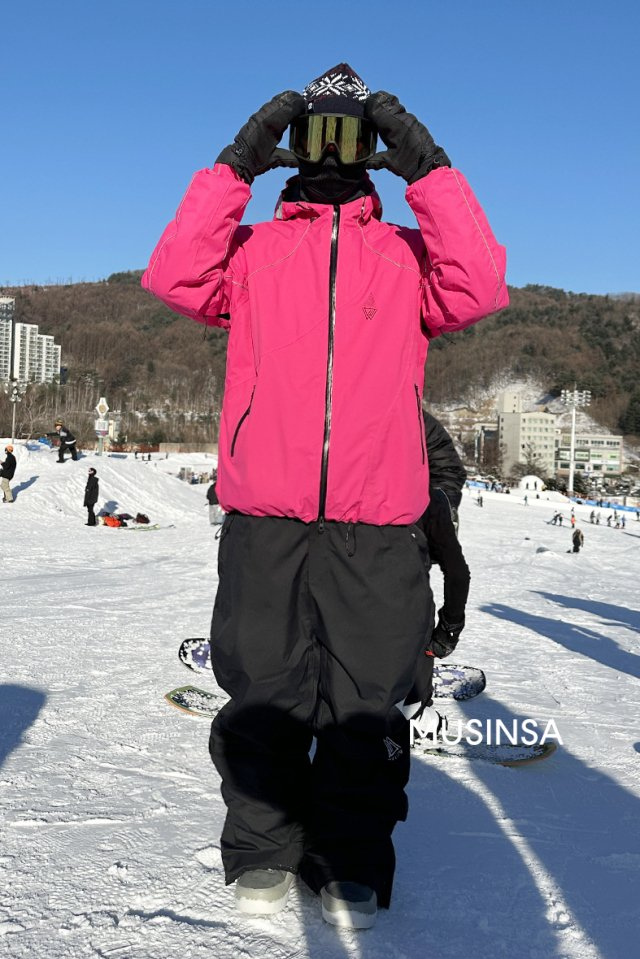Beanie: (292, 61, 385, 115)
Glasses: (284, 110, 381, 165)
Outer: (158, 194, 514, 525)
Pants: (209, 513, 431, 891)
Shoes: (233, 861, 399, 940)
